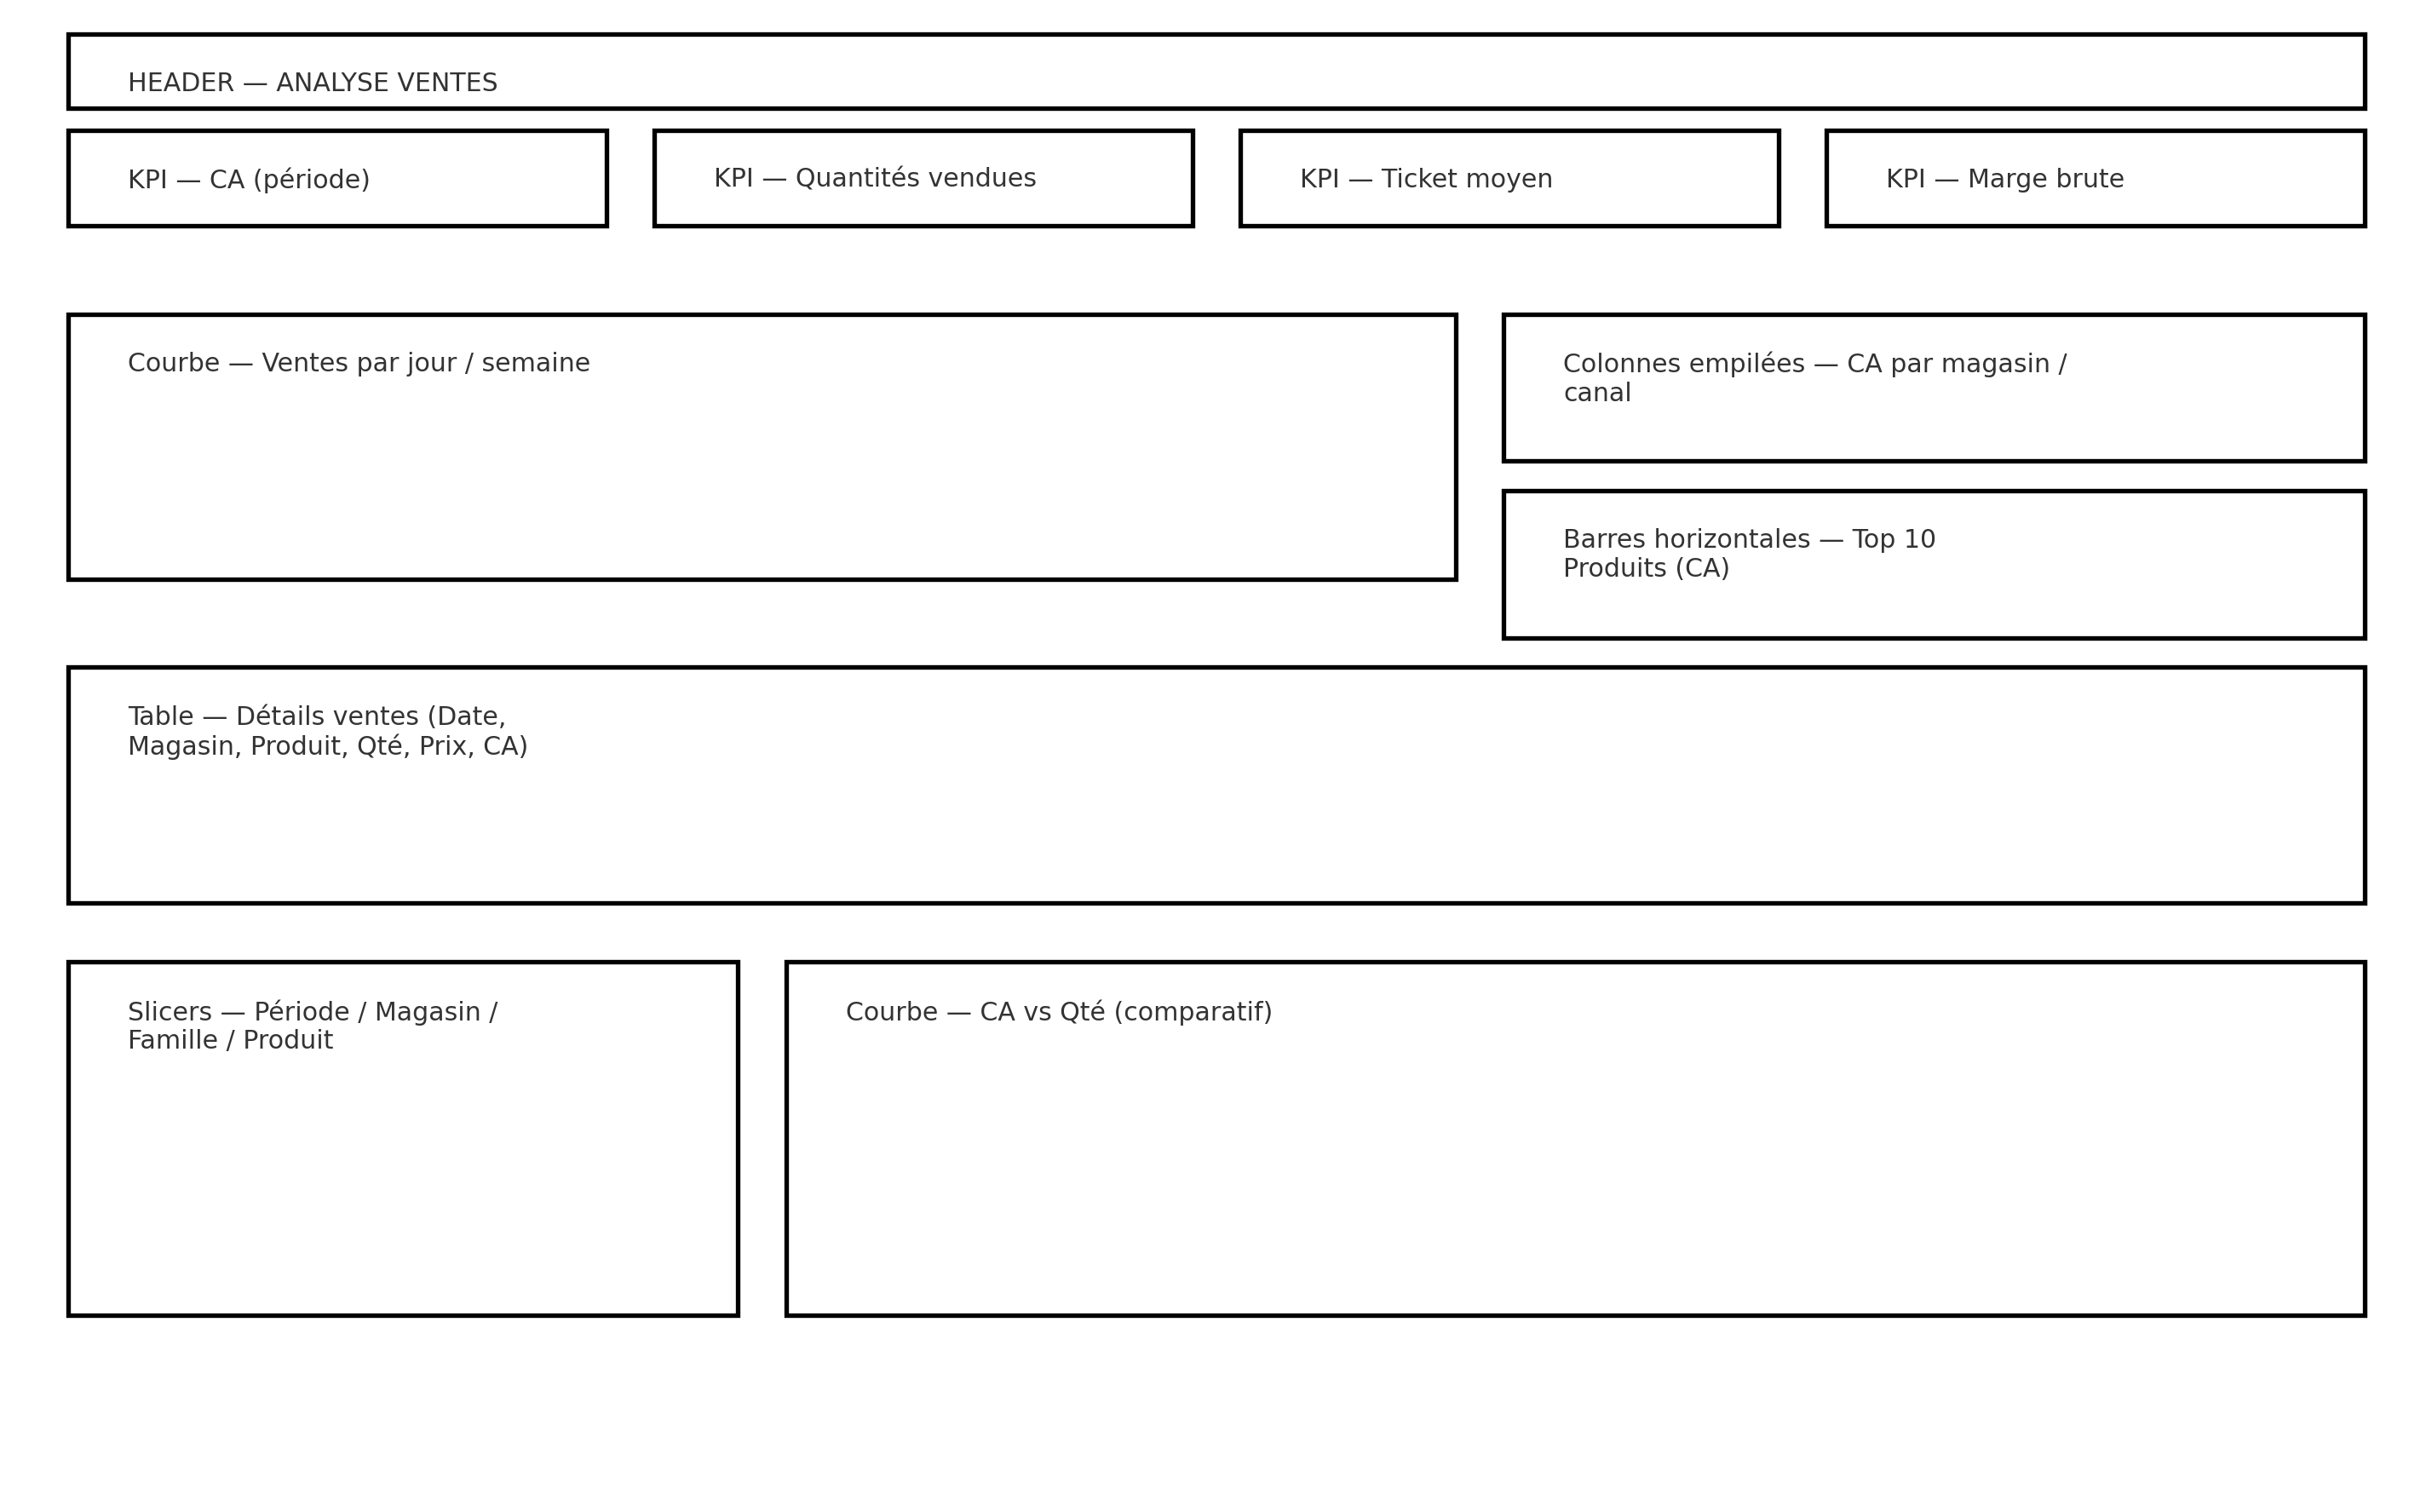

The dashboard page shown, as its layout file describes it:
{"tool":"powerbi","page":{"name":"VENTES","canvas":[1280,720],"ordinal":1},"visuals":[{"type":"group","id":"g1","title":"Groupe 2","box":[269,18.7,988.3,105],"z":0},{"type":"basicShape","box":[269,18.7,988.3,105],"z":0,"group":"g1"},{"type":"basicShape","box":[1.2,0,232.3,720],"z":500,"group":"g2"},{"type":"areaChart","fields":{"Category":["data.Date"],"Y":["Sum(data.Valorisation des ventes)"]},"box":[266.6,149.6,515.2,546.5],"z":1000},{"type":"image","box":[266.6,41,79.6,63.9],"z":2000},{"type":"clusteredColumnChart","fields":{"Category":["data.Magasin"],"Y":["Sum(data.Valorisation des ventes)"]},"box":[799.9,348.7,457.2,347.5],"z":3000},{"type":"group","id":"g2","title":"Groupe 2","box":[1.2,0,232.3,720],"z":4000},{"type":"textbox","box":[16.9,36.2,194.2,74.8],"z":5000},{"type":"slicer","fields":{"Values":["data.Date"]},"box":[2.2,123.3,227.8,83.3],"z":6000},{"type":"slicer","fields":{"Values":["data.Magasin"]},"box":[2.2,397.8,227.8,75.6],"z":7000},{"type":"slicer","fields":{"Values":["data.Libellé"]},"box":[2.2,487.8,227.8,83.3],"z":8000},{"type":"slicer","fields":{"Values":["data.Année"]},"box":[2.2,222.2,227.8,72.2],"z":9000},{"type":"slicer","fields":{"Values":["data.Mois"]},"box":[2.2,313.3,227.8,72.2],"z":10000},{"type":"actionButton","box":[120.7,608.7,43.4,39.8],"z":11000},{"type":"actionButton","box":[70.2,608.1,39.9,39.9],"z":12000},{"type":"card","fields":{"Values":["Sum(data.Somme des sorties (ventes))"]},"box":[590.2,41,153.2,70],"z":13000},{"type":"card","fields":{"Values":["Sum(data.Somme des entrées (achats))"]},"box":[827.6,41,164.1,70],"z":14000},{"type":"card","fields":{"Values":["Sum(data.Valorisation des ventes)"]},"box":[346.2,41,149.6,70],"z":15000},{"type":"card","fields":{"Values":["Count(data.Référence produit)"]},"box":[1091.8,41,141.2,70],"z":16000},{"type":"image","box":[1021.9,32.6,76,79.6],"z":17000},{"type":"card","fields":{"Values":["data.TexteStockDerniereDate"]},"box":[799.8,149.6,457.5,182.7],"z":18000},{"type":"image","box":[754,27.7,83.2,91.7],"z":19000},{"type":"image","box":[801.1,154.4,53.1,51.9],"z":20000},{"type":"image","box":[512,26.7,77.1,90.7],"z":20004,"group":"g1"}]}

Visuals, with their boxes on the page's 1280x720 design canvas (x1, y1, x2, y2). These are canvas units, not pixel positions in the 2432x1512 screenshot, which may show the page scaled, cropped or inside an application window:
"Groupe 2" group: detection(269, 19, 1257, 124)
basicShape: detection(269, 19, 1257, 124)
basicShape: detection(1, 0, 234, 720)
areaChart - data.Date x Sum(data.Valorisation des ventes): detection(267, 150, 782, 696)
image: detection(267, 41, 346, 105)
clusteredColumnChart - data.Magasin x Sum(data.Valorisation des ventes): detection(800, 349, 1257, 696)
"Groupe 2" group: detection(1, 0, 234, 720)
textbox: detection(17, 36, 211, 111)
slicer - data.Date: detection(2, 123, 230, 207)
slicer - data.Magasin: detection(2, 398, 230, 473)
slicer - data.Libellé: detection(2, 488, 230, 571)
slicer - data.Année: detection(2, 222, 230, 294)
slicer - data.Mois: detection(2, 313, 230, 386)
actionButton: detection(121, 609, 164, 648)
actionButton: detection(70, 608, 110, 648)
card - Sum(data.Somme des sorties (ventes)): detection(590, 41, 743, 111)
card - Sum(data.Somme des entrées (achats)): detection(828, 41, 992, 111)
card - Sum(data.Valorisation des ventes): detection(346, 41, 496, 111)
card - Count(data.Référence produit): detection(1092, 41, 1233, 111)
image: detection(1022, 33, 1098, 112)
card - data.TexteStockDerniereDate: detection(800, 150, 1257, 332)
image: detection(754, 28, 837, 119)
image: detection(801, 154, 854, 206)
image: detection(512, 27, 589, 117)
